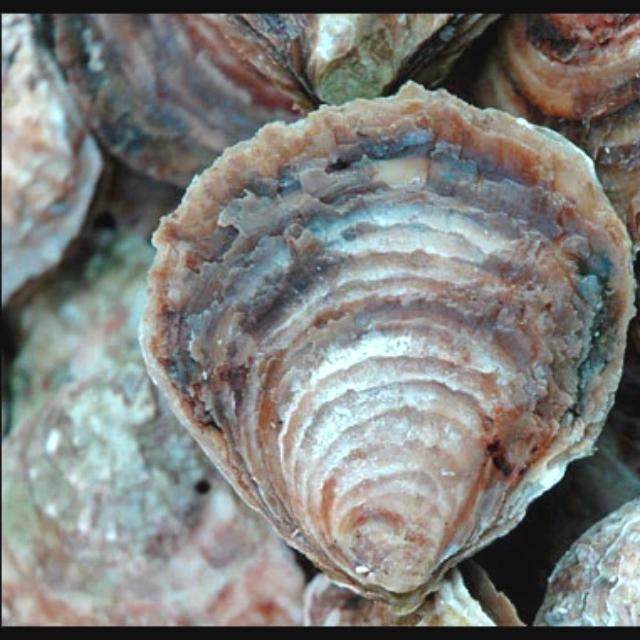Oyster-Closed: (143, 79, 636, 610), (0, 262, 305, 627), (49, 12, 305, 191), (472, 12, 638, 258), (0, 12, 119, 314), (534, 498, 638, 627)
Oyster-Open: (219, 12, 501, 110), (304, 558, 530, 627)
